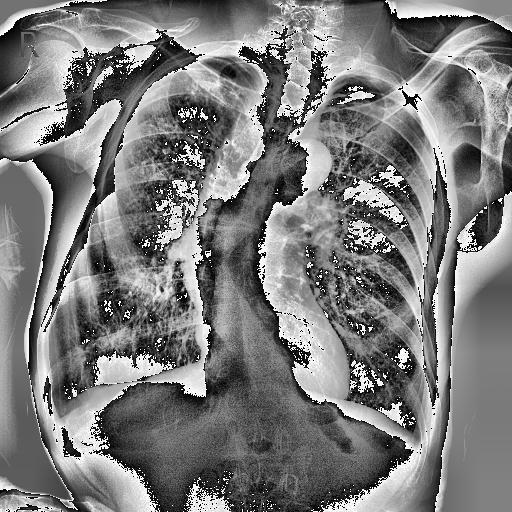0- Aortic enlargement: (270, 137, 329, 192)
10- Pleural effusion: (44, 398, 80, 444), (41, 390, 71, 432), (398, 427, 432, 464), (404, 418, 431, 458), (44, 400, 76, 428), (408, 432, 431, 458)
11- Pleural thickening: (44, 398, 80, 444), (41, 390, 71, 432), (398, 427, 432, 464), (404, 418, 431, 458), (44, 400, 76, 428), (408, 432, 431, 458)
13- Pulmonary fibrosis: (172, 66, 244, 110)
5- ILD: (134, 77, 228, 244)
9- Other lesion: (192, 70, 314, 378), (186, 132, 286, 392)
